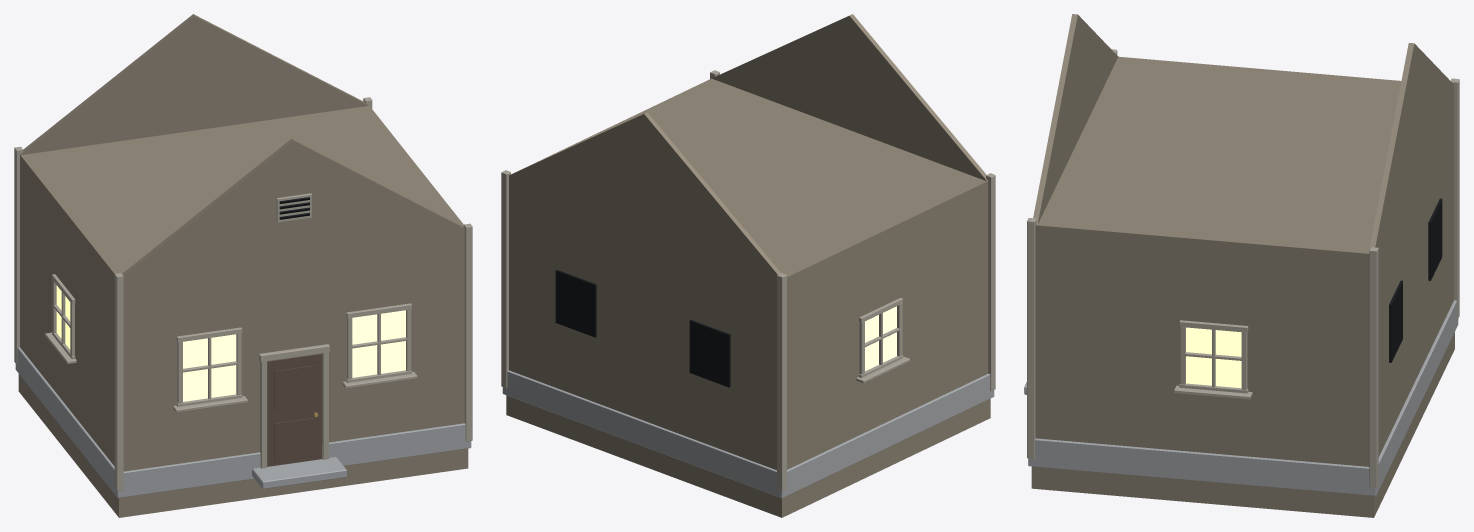
The model's file is house2_walls.glb.
3 views of the same model, side by side, from view 1: azimuth 30°, elevation 25°; view 2: azimuth 150°, elevation 25°; view 3: azimuth 270°, elevation 25° (orthographic). The views are drawn at different scales.
Parts seen in each view (by area): view 1: house2_walls; view 2: house2_walls; view 3: house2_walls.
Part boxes in pixels (box(x1,y1,x2,y2)): house2_walls: box(14, 14, 472, 517); house2_walls: box(501, 14, 995, 517); house2_walls: box(1024, 14, 1459, 517).
Bounding box in the file's own units: 8.21 × 7.4 × 7.48.
